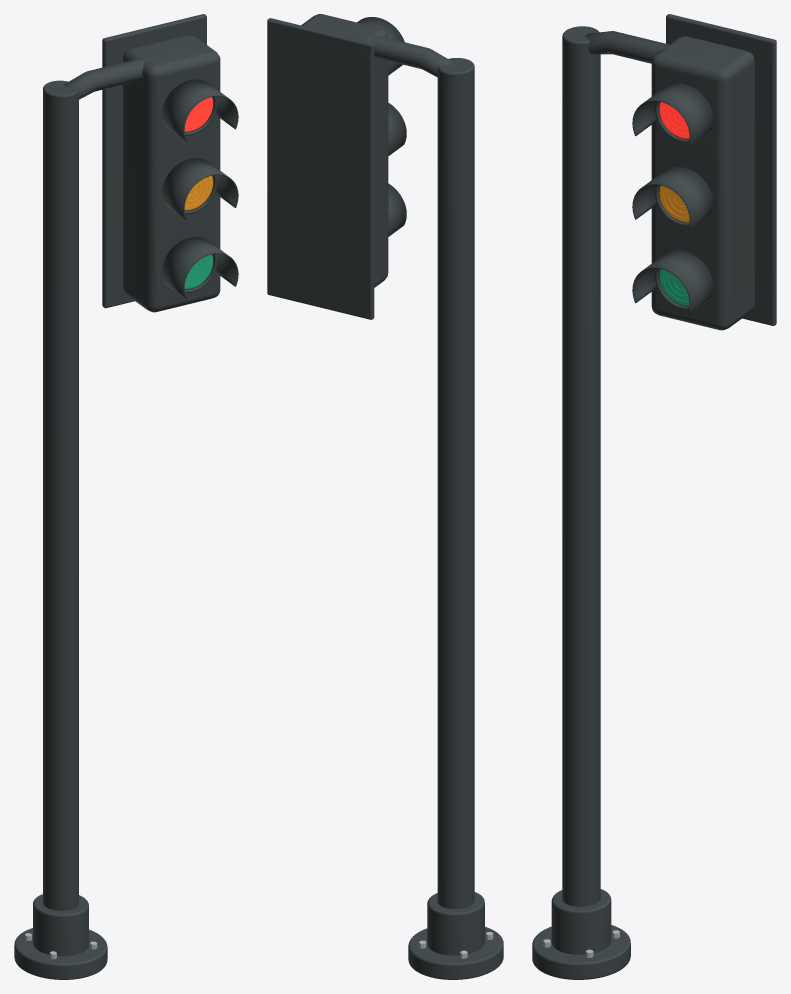
File: traffic_light.glb
3 views of the same model, side by side, from view 1: azimuth 30°, elevation 25°; view 2: azimuth 150°, elevation 25°; view 3: azimuth 330°, elevation 25° (orthographic). The views are drawn at different scales.
Parts seen in each view (by area): view 1: GEO-Signal mast section.002, GEO-Weather sealed signal housing, GEO-Signal backplate, GEO-Signal mast section.001, GEO-Signal mast section, GEO-Open sheet metal lamp hood, GEO-Open sheet metal lamp hood.001, GEO-Open sheet metal lamp hood.002, GEO-Bent mast arm, GEO-Recessed lens.001, GEO-Recessed lens, GEO-Recessed lens.002; view 2: GEO-Signal mast section.002, GEO-Signal backplate, GEO-Weather sealed signal housing, GEO-Signal mast section.001, GEO-Signal mast section, GEO-Bent mast arm, GEO-Open sheet metal lamp hood.001, GEO-Open sheet metal lamp hood.002, GEO-Open sheet metal lamp hood; view 3: GEO-Signal mast section.002, GEO-Weather sealed signal housing, GEO-Signal backplate, GEO-Signal mast section.001, GEO-Signal mast section, GEO-Open sheet metal lamp hood, GEO-Open sheet metal lamp hood.001, GEO-Open sheet metal lamp hood.002, GEO-Bent mast arm, GEO-Recessed lens.001, GEO-Recessed lens, GEO-Recessed lens.002.
Boxes of the visible parts, x1=… form: GEO-Signal mast section.002: x1=43, y1=80, x2=78, y2=910; GEO-Weather sealed signal housing: x1=123, y1=35, x2=220, y2=312; GEO-Signal backplate: x1=102, y1=14, x2=206, y2=308; GEO-Signal mast section.001: x1=33, y1=894, x2=88, y2=956; GEO-Signal mast section: x1=14, y1=928, x2=107, y2=979; GEO-Open sheet metal lamp hood: x1=162, y1=79, x2=238, y2=141; GEO-Open sheet metal lamp hood.001: x1=162, y1=158, x2=238, y2=219; GEO-Open sheet metal lamp hood.002: x1=162, y1=237, x2=238, y2=298; GEO-Bent mast arm: x1=64, y1=57, x2=146, y2=99; GEO-Recessed lens.001: x1=184, y1=175, x2=212, y2=210; GEO-Recessed lens: x1=184, y1=97, x2=212, y2=131; GEO-Recessed lens.002: x1=184, y1=254, x2=212, y2=288; GEO-Signal mast section.002: x1=437, y1=58, x2=474, y2=908; GEO-Signal backplate: x1=267, y1=18, x2=374, y2=319; GEO-Weather sealed signal housing: x1=301, y1=14, x2=388, y2=287; GEO-Signal mast section.001: x1=427, y1=892, x2=484, y2=955; GEO-Signal mast section: x1=408, y1=926, x2=503, y2=979; GEO-Bent mast arm: x1=368, y1=34, x2=452, y2=77; GEO-Open sheet metal lamp hood.001: x1=388, y1=103, x2=406, y2=155; GEO-Open sheet metal lamp hood.002: x1=388, y1=183, x2=406, y2=236; GEO-Open sheet metal lamp hood: x1=357, y1=17, x2=404, y2=75; GEO-Signal mast section.002: x1=562, y1=26, x2=600, y2=906; GEO-Weather sealed signal housing: x1=651, y1=36, x2=754, y2=330; GEO-Signal backplate: x1=666, y1=14, x2=776, y2=325; GEO-Signal mast section.001: x1=551, y1=889, x2=611, y2=954; GEO-Signal mast section: x1=532, y1=925, x2=630, y2=979; GEO-Open sheet metal lamp hood: x1=632, y1=83, x2=713, y2=148; GEO-Open sheet metal lamp hood.001: x1=632, y1=167, x2=713, y2=232; GEO-Open sheet metal lamp hood.002: x1=632, y1=250, x2=713, y2=315; GEO-Bent mast arm: x1=584, y1=31, x2=671, y2=63; GEO-Recessed lens.001: x1=659, y1=185, x2=689, y2=222; GEO-Recessed lens: x1=659, y1=102, x2=689, y2=138; GEO-Recessed lens.002: x1=659, y1=269, x2=689, y2=305.
Size of the model in its own units: 0.66 by 2.76 by 0.3468.
